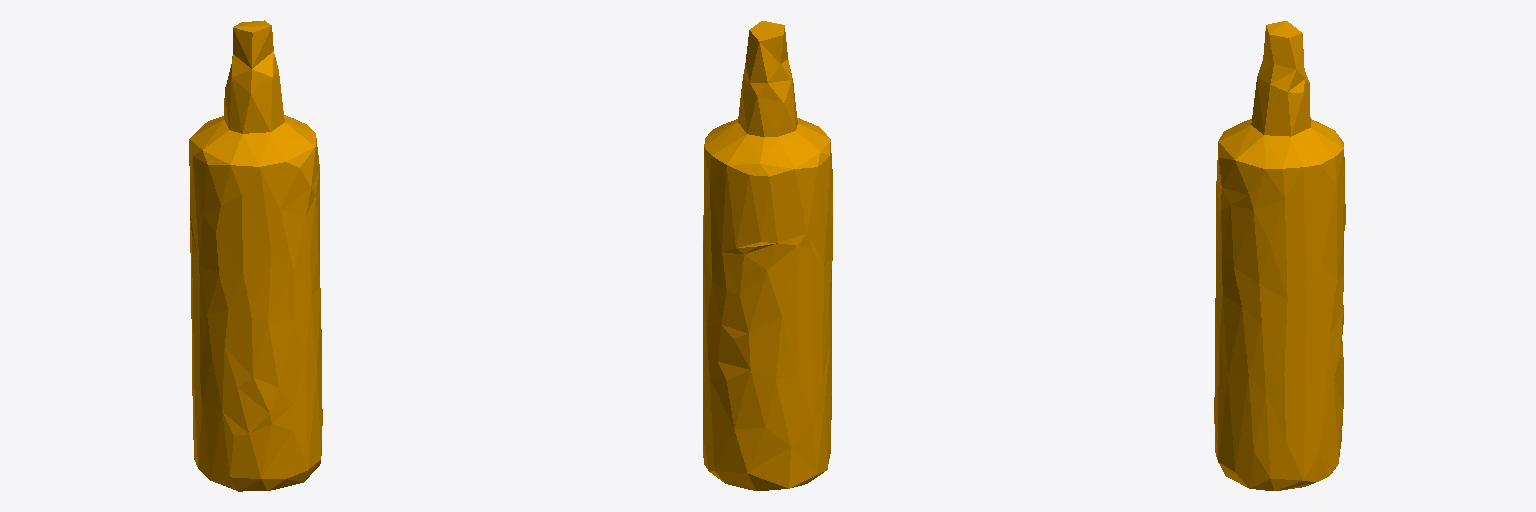
URDF robot description (HygieneSpray_800_tex):
<?xml version="1.0"?>
<robot name="HygieneSpray_800_tex">
  <link name="base_link">
    <contact>
      <lateral_friction value="1.0"/>
      <rolling_friction value="0.0"/>
      <contact_cfm value="0.0"/>
      <contact_erp value="1.0"/>
    </contact>
    <inertial>
      <mass value="0.132304205296"/>
      <inertia ixx="1" ixy="0" ixz="0" iyy="1" iyz="0" izz="1"/>
    </inertial>
    <visual>
      <geometry>
        <mesh filename="HygieneSpray_800_tex_visual.obj"/>
      </geometry>
    </visual>
    <collision>
      <geometry>
        <mesh filename="HygieneSpray_800_tex_collision.obj"/>
      </geometry>
    </collision>
  </link>
</robot>

--- Facts derived from the render (not from the file) ---
Views: 3 orthographic renders of the robot side by side, from view 1: azimuth 30°, elevation 25°; view 2: azimuth 150°, elevation 25°; view 3: azimuth 270°, elevation 25°.
Model HygieneSpray_800_tex with 1 links and 0 joints (none), rooted at base_link, posed every joint at zero.
Visible links, largest first — view 1: base_link; view 2: base_link; view 3: base_link.
Boxes of the visible links, x1,y1,x2,y2 form: base_link: [189, 20, 322, 491]; base_link: [703, 21, 832, 490]; base_link: [1214, 21, 1345, 490].
Bounding box of the posed robot: 0.0662 × 0.067 × 0.2464 m (x, y, z).
1 mesh visuals loaded from 1 distinct referenced files (1 OBJ).